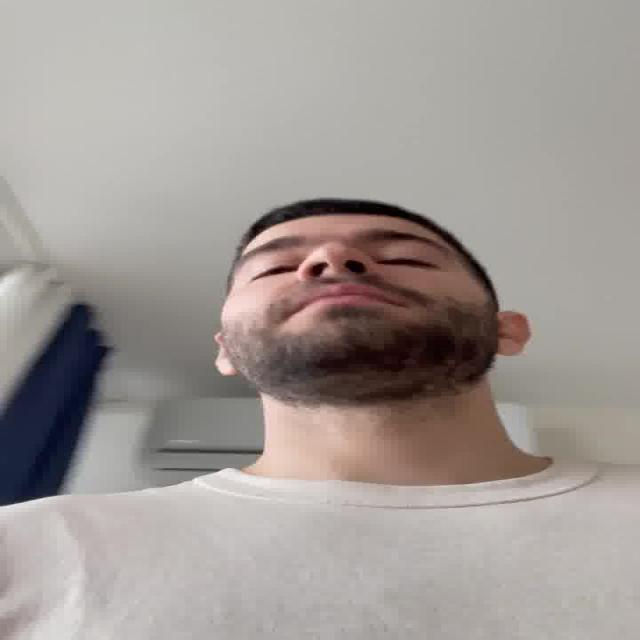earlobe: (496, 311, 536, 358), (213, 331, 240, 377)
